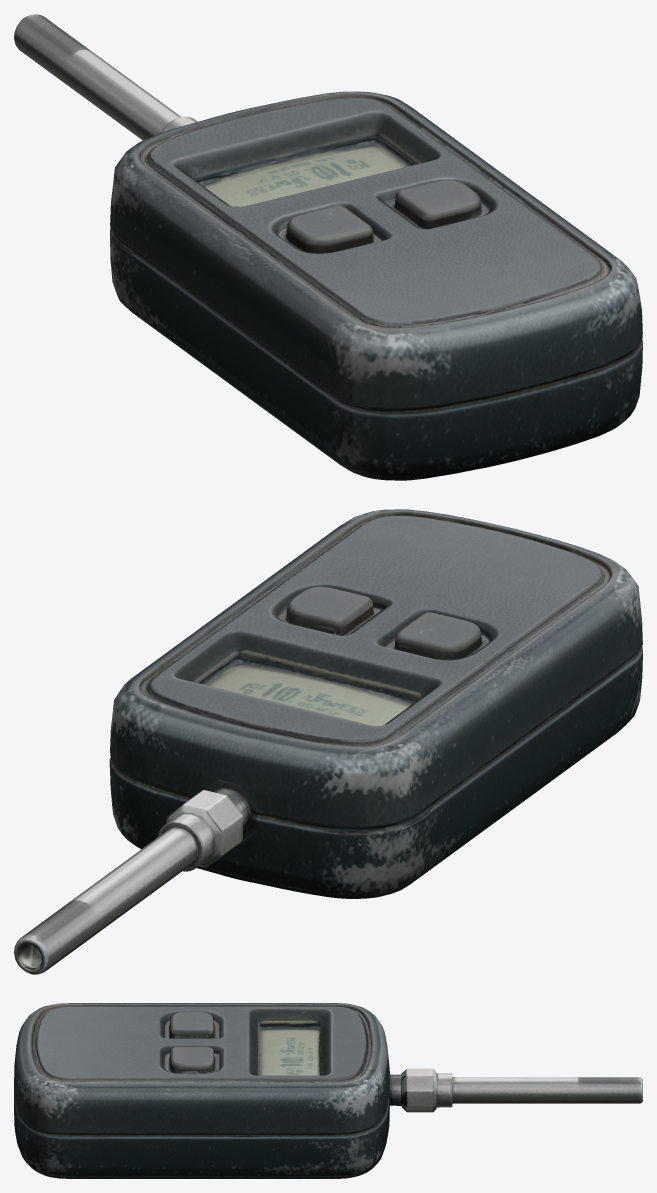
Rendered from Thermometer.glb.
3 renders of one model, top to bottom at view 1: azimuth 30°, elevation 25°; view 2: azimuth 150°, elevation 25°; view 3: azimuth 270°, elevation 25°, orthographic. The views are drawn at different scales.
Visible parts, largest first — view 1: texture_mapping; view 2: texture_mapping; view 3: texture_mapping.
Part boxes in pixels (bbox=[...]): texture_mapping: bbox=[14, 14, 642, 480]; texture_mapping: bbox=[14, 509, 642, 974]; texture_mapping: bbox=[14, 1003, 642, 1178].
Size of the model in its own units: 0.3501 by 0.1811 by 0.9998.
Materials: 1 (1 with a texture image).
